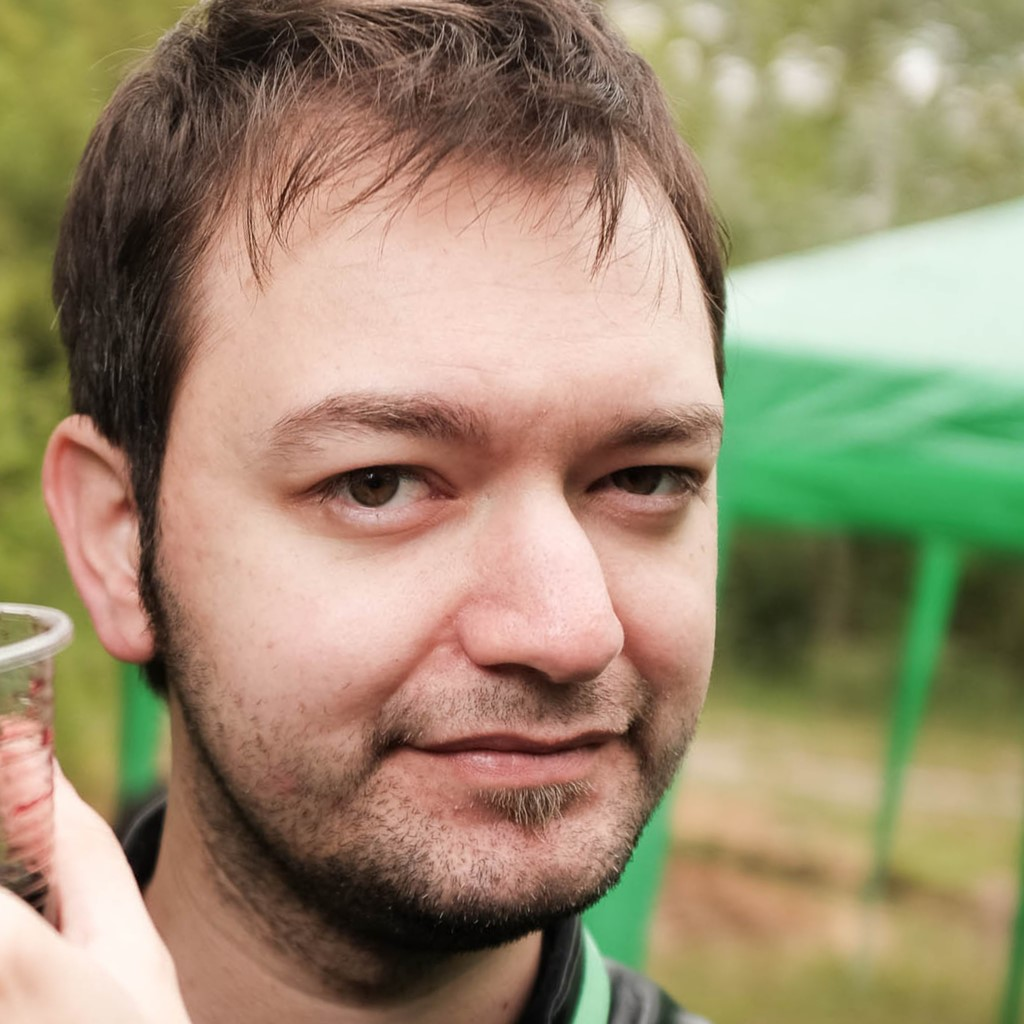sin_mascara: (120, 89, 715, 906)
